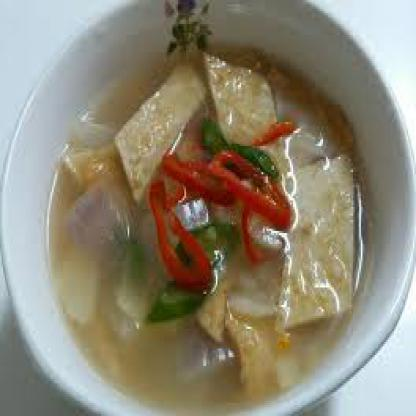Udon: (54, 41, 364, 403)
